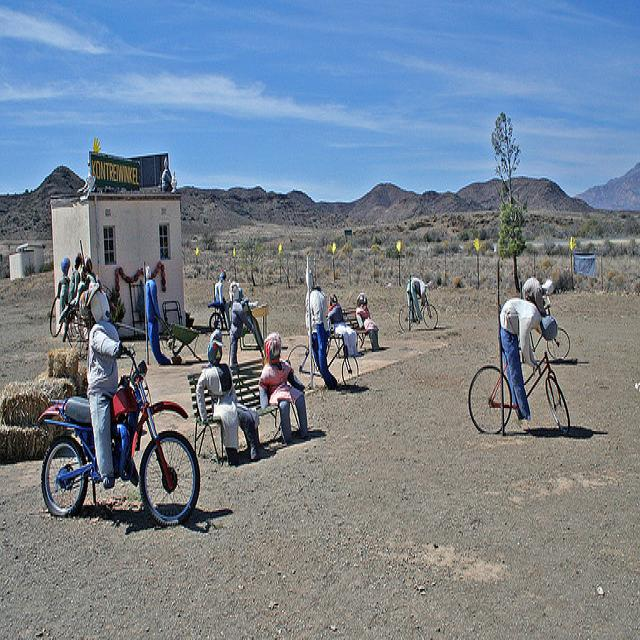motor: (38, 341, 201, 525)
